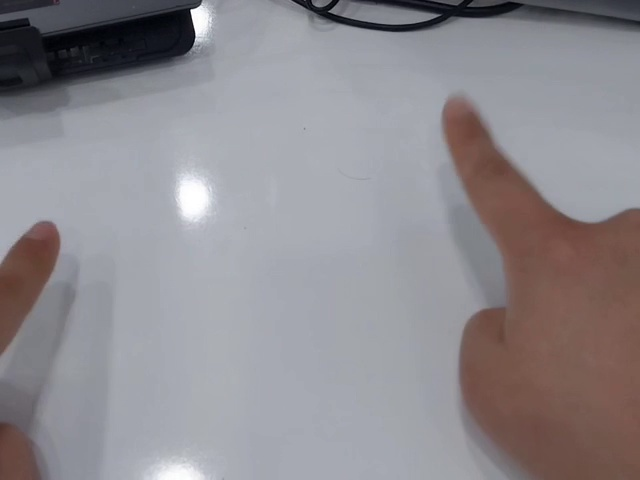fingers: (10, 219, 61, 283), (441, 94, 490, 144)
